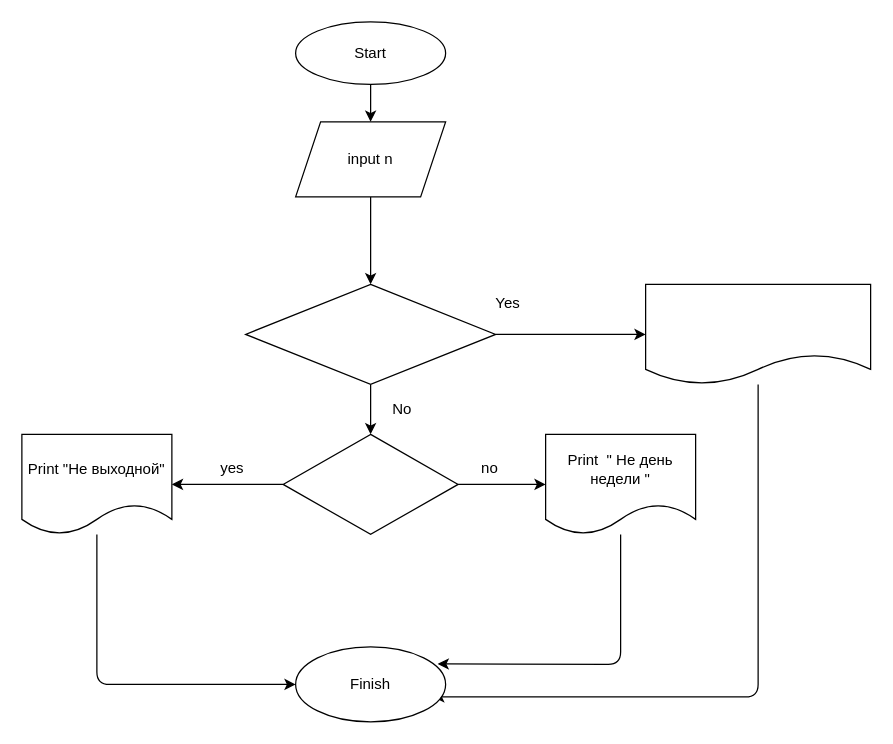
The diagram is 893 pixels wide and 744 high, and some of its shapes have lost their labels. Each missing label, with the centre of its shape:
n==6 OR n==7: the point at 370,333
n>0 AND n<6: the point at 370,483
Print "Выходной": the point at 757,333
